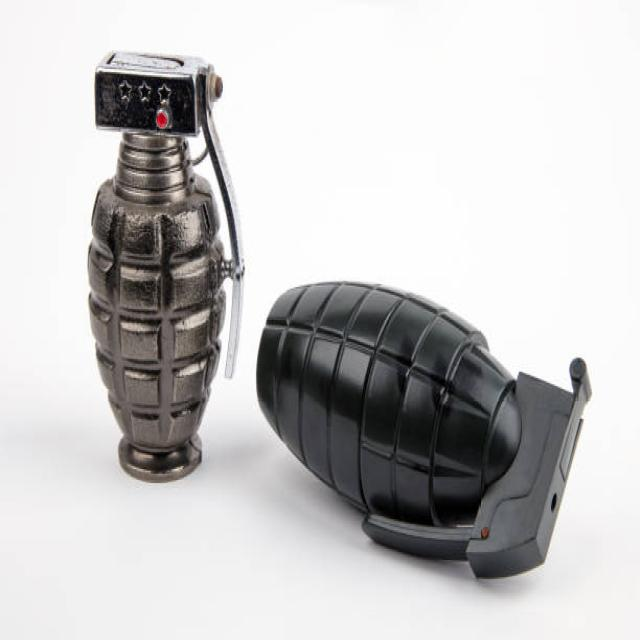grenade: (255, 271, 596, 585), (80, 46, 245, 494)
